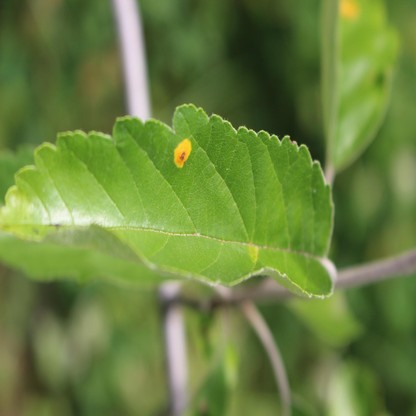rust: (174, 139, 191, 167), (338, 3, 356, 17)
